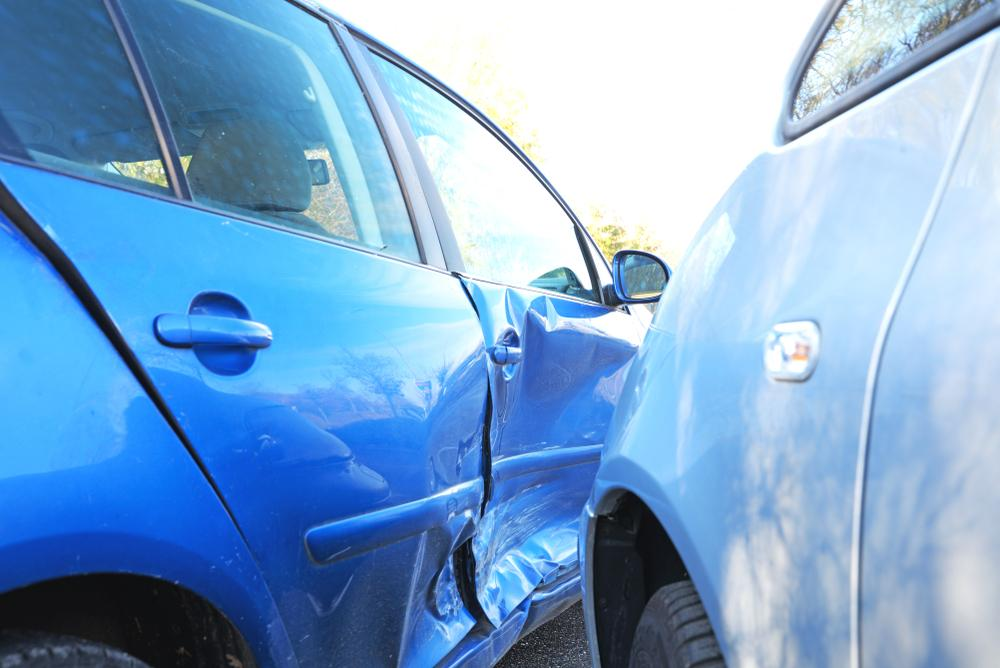dent: (475, 312, 634, 626), (398, 527, 471, 668)
